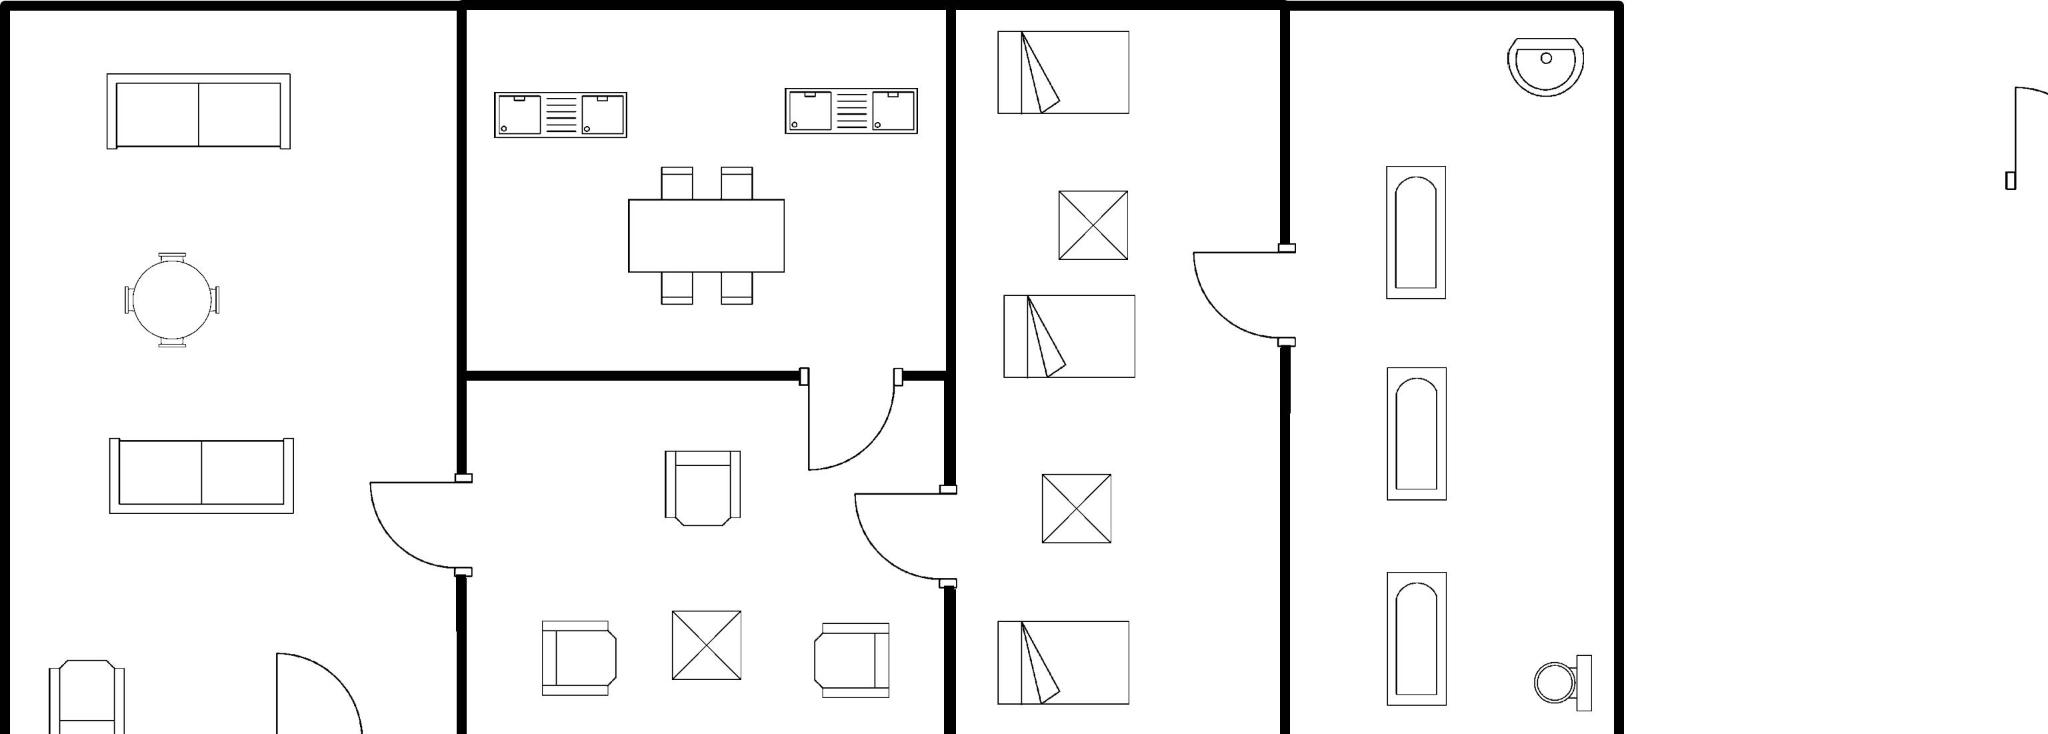sink: (772, 80, 933, 150), (481, 78, 635, 149)
